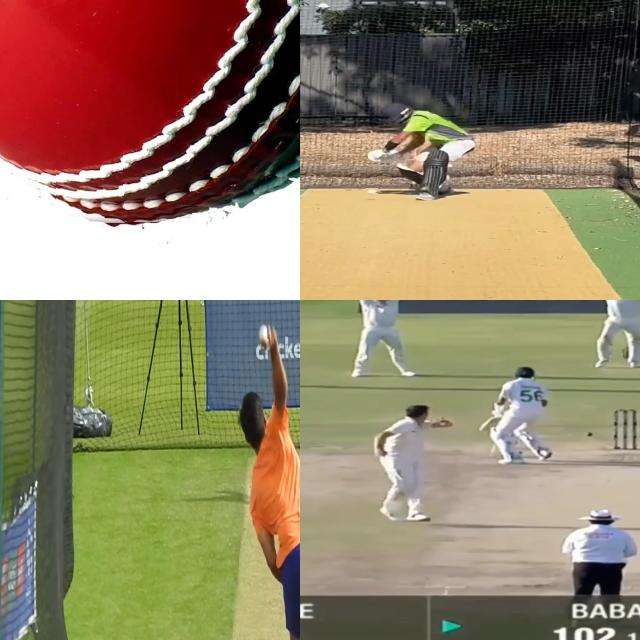Cricket ball: (0, 0, 300, 226), (258, 322, 270, 350), (366, 188, 378, 196), (586, 431, 594, 437)
Stumps: (612, 408, 638, 451)
